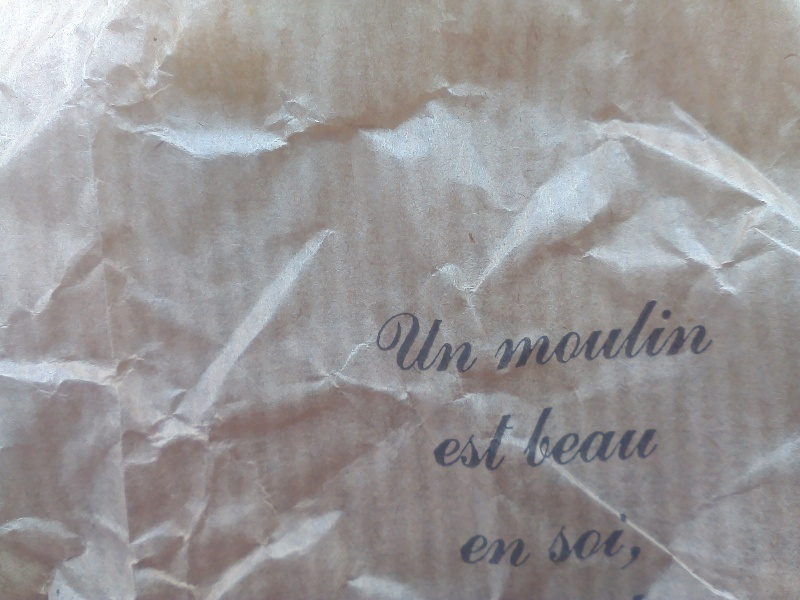text: (497, 300, 512, 373), (513, 300, 528, 373), (529, 300, 544, 373), (545, 300, 560, 373), (561, 300, 576, 373), (577, 300, 592, 373), (593, 300, 608, 373), (609, 300, 624, 373), (625, 300, 640, 373), (641, 300, 656, 373), (657, 300, 672, 373), (673, 300, 688, 373), (689, 300, 704, 373), (705, 300, 720, 373), (385, 311, 400, 374), (401, 311, 416, 374), (417, 311, 432, 374), (433, 311, 448, 374), (449, 311, 464, 374), (449, 413, 464, 474), (465, 413, 480, 474), (481, 413, 496, 474), (497, 413, 512, 474), (529, 407, 544, 468), (545, 407, 560, 468), (561, 407, 576, 468), (577, 407, 592, 468), (593, 407, 608, 468), (609, 407, 624, 468), (625, 407, 640, 468), (641, 407, 656, 468), (561, 512, 576, 572), (577, 512, 592, 572), (593, 512, 608, 572), (609, 512, 624, 572), (625, 512, 640, 572), (465, 311, 478, 374), (435, 413, 448, 474), (551, 512, 560, 572), (376, 311, 384, 374), (465, 535, 480, 568), (481, 535, 496, 568), (497, 535, 512, 568), (513, 535, 528, 568), (524, 407, 528, 468), (641, 512, 645, 572), (657, 407, 660, 468), (529, 535, 533, 568), (513, 413, 515, 474), (461, 535, 464, 568), (495, 300, 496, 373), (721, 300, 722, 373)
